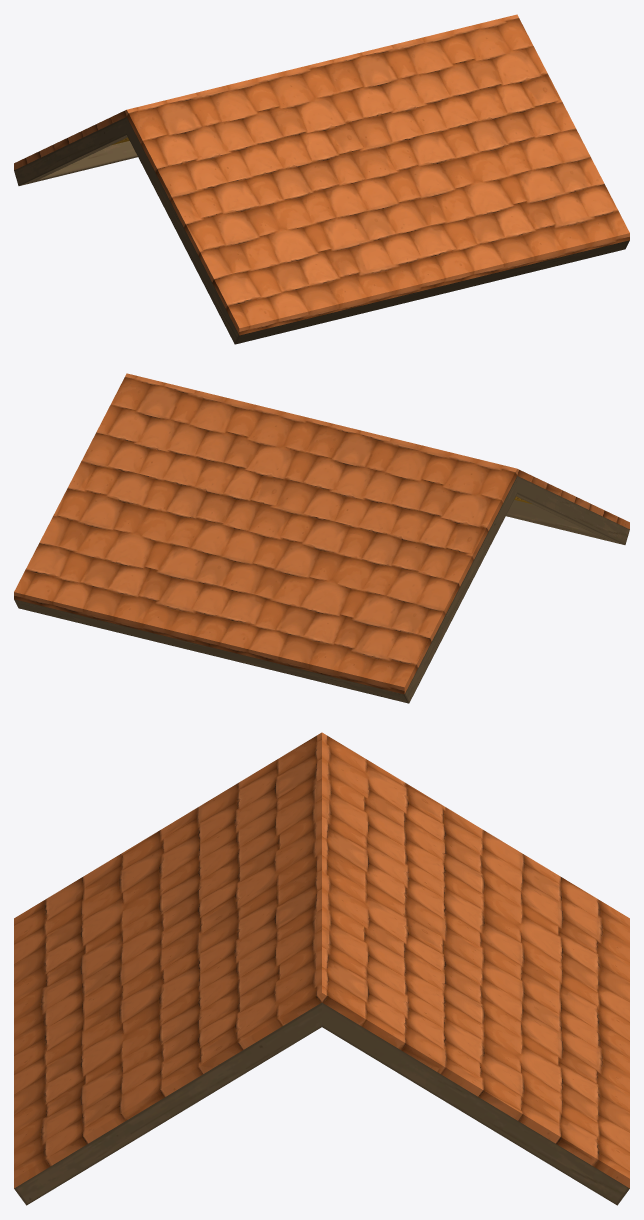
Rendered from SM_building_roof_15.glb.
3 renders of one model, top to bottom at view 1: azimuth 30°, elevation 25°; view 2: azimuth 150°, elevation 25°; view 3: azimuth 270°, elevation 25°, orthographic. The views are drawn at different scales.
Visible parts, largest first — view 1: SM_building_roof_15; view 2: SM_building_roof_15; view 3: SM_building_roof_15.
Boxes of the visible parts, <box> form: SM_building_roof_15: <box>14,14,629,344</box>; SM_building_roof_15: <box>14,373,629,703</box>; SM_building_roof_15: <box>14,732,629,1205</box>.
Bounding box in the file's own units: 6 × 2.29 × 6.
3 materials, 3 textured.
